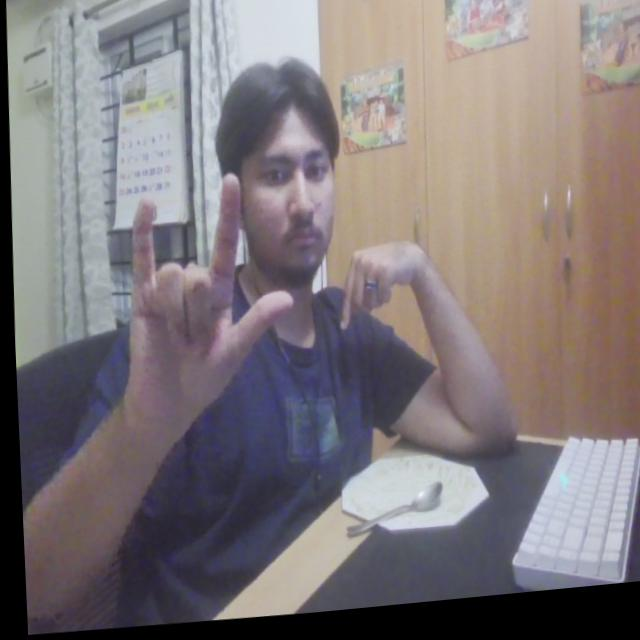iloveyou: (108, 167, 301, 448)
